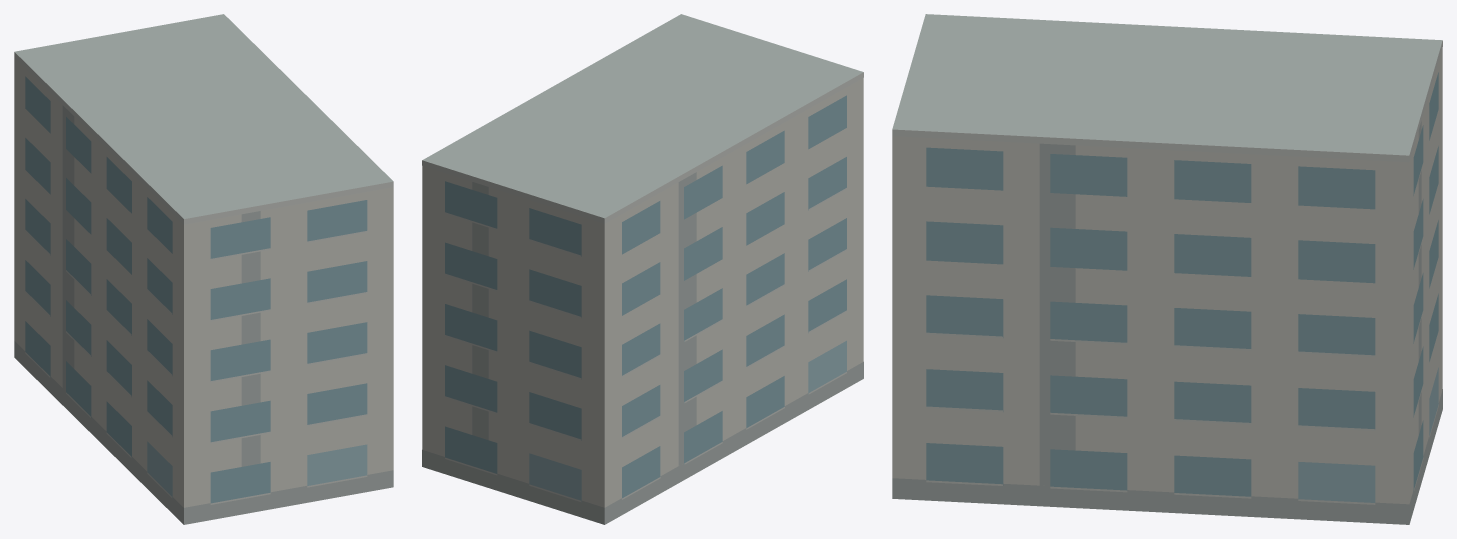
Rendered from survey-upis-32959780.glb.
3 views of the same model, side by side, from view 1: azimuth 30°, elevation 25°; view 2: azimuth 150°, elevation 25°; view 3: azimuth 270°, elevation 25° (orthographic). The views are drawn at different scales.
Visible parts, largest first — view 1: survey-upis-32959780.tmp; view 2: survey-upis-32959780.tmp; view 3: survey-upis-32959780.tmp.
Part boxes in pixels (<box>): survey-upis-32959780.tmp: <box>14,14,393,524</box>; survey-upis-32959780.tmp: <box>422,14,863,524</box>; survey-upis-32959780.tmp: <box>892,14,1442,524</box>.
Size of the model in its own units: 11.11 by 13.5 by 18.25.
